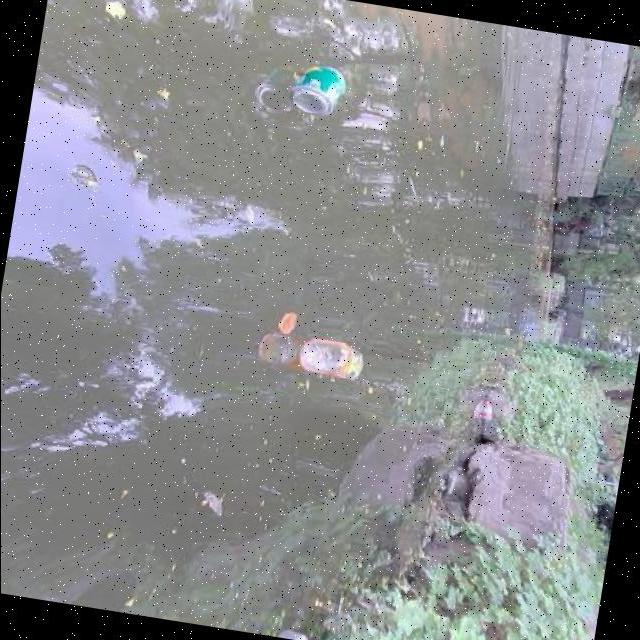Bottle: (295, 328, 369, 388), (286, 59, 352, 122)
